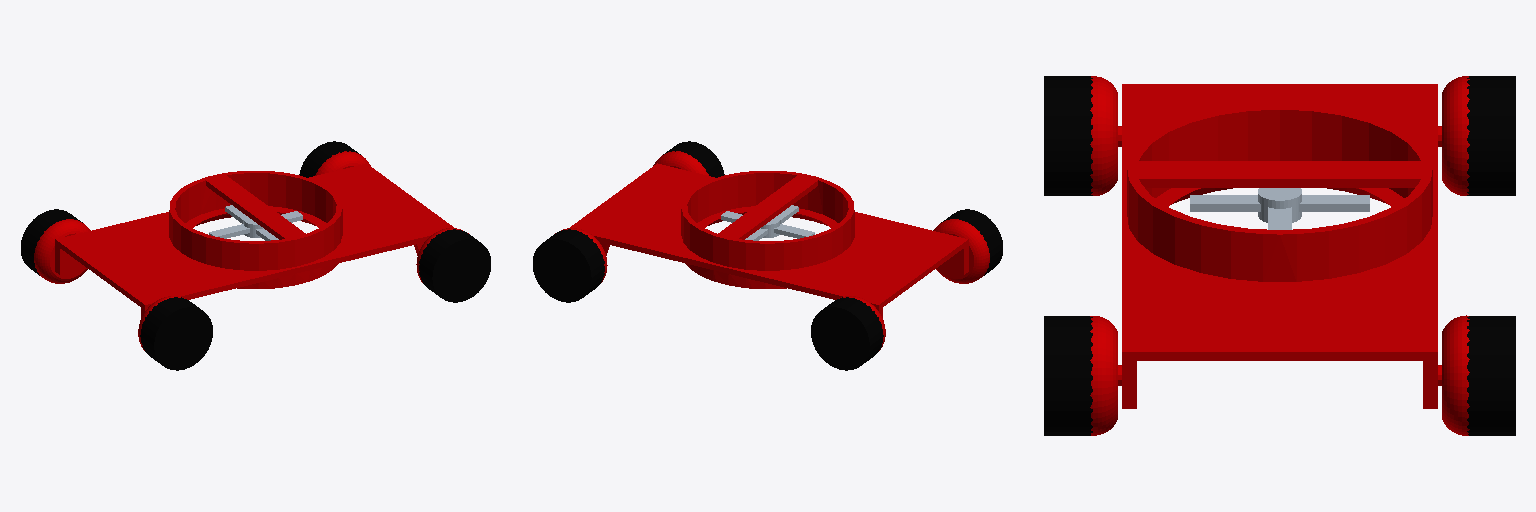
robot.urdf — wallclimbingrobot:
<?xml version="1.0"?>
<robot name="wallclimbingrobot">
  <link name="base_link">
    <inertial>
      <origin xyz="0 0 -0.00139167053492445" rpy="0 0 0" />
      <mass value="2.24200509812134" />
      <inertia ixx="0.0249086640869241" ixy="4.01026389598321E-18" ixz="-5.31210156988019E-18" iyy="0.0777395584720522" iyz="6.75854069904095E-19" izz="0.100518609386422" />
    </inertial>
    <visual>
      <origin xyz="0 0 0" rpy="0 0 0" />
      <geometry>
        <mesh filename="package://wallclimbingrobot/meshes/base_link.STL" />
      </geometry>
      <material name="body_red">
        <color rgba="0.8 0.015 0.025 1" />
      </material>
    </visual>
    <collision>
      <origin xyz="0 0 0.015" rpy="0 0 0" />
      <geometry>
        <box size="0.62 0.30 0.055" />
      </geometry>
    </collision>
  </link>
  <link name="link_BR">
    <inertial>
      <origin xyz="-2.7756E-16 0.023324 1.3878E-16" rpy="0 0 0" />
      <mass value="0.39375" />
      <inertia ixx="0.00035222" ixy="7.5731E-21" ixz="-6.1531E-21" iyy="0.00058248" iyz="1.8933E-21" izz="0.00035222" />
    </inertial>
    <visual>
      <origin xyz="0 0 0" rpy="1.57079632679 0 0" />
      <geometry>
        <cylinder radius="0.057" length="0.046" />
      </geometry>
      <material name="rubber">
        <color rgba="0.045 0.045 0.045 1" />
      </material>
    </visual>
    <collision>
      <origin xyz="0 0 0" rpy="1.57079632679 0 0" />
      <geometry>
        <cylinder radius="0.057" length="0.046" />
      </geometry>
    </collision>
  </link>
  <joint name="joint_BR" type="continuous">
    <origin xyz="-0.26814 -0.2 -0.04" rpy="0 0 0" />
    <parent link="base_link" />
    <child link="link_BR" />
    <axis xyz="0 1 0" />
  </joint>
  <link name="link_BL">
    <inertial>
      <origin xyz="-5.5511E-17 -0.023324 5.5511E-17" rpy="0 0 0" />
      <mass value="0.39375" />
      <inertia ixx="0.00035222" ixy="5.4144E-21" ixz="0" iyy="0.00058248" iyz="-1.2032E-19" izz="0.00035222" />
    </inertial>
    <visual>
      <origin xyz="0 0 0" rpy="1.57079632679 0 0" />
      <geometry>
        <cylinder radius="0.057" length="0.046" />
      </geometry>
      <material name="rubber">
        <color rgba="0.045 0.045 0.045 1" />
      </material>
    </visual>
    <collision>
      <origin xyz="0 0 0" rpy="1.57079632679 0 0" />
      <geometry>
        <cylinder radius="0.057" length="0.046" />
      </geometry>
    </collision>
  </link>
  <joint name="joint_BL" type="continuous">
    <origin xyz="-0.26814 0.2 -0.04" rpy="0 0 0" />
    <parent link="base_link" />
    <child link="link_BL" />
    <axis xyz="0 1 0" />
  </joint>
  <link name="link_FL">
    <inertial>
      <origin xyz="1.3878E-17 -0.023324 0" rpy="0 0 0" />
      <mass value="0.39375" />
      <inertia ixx="0.00035222" ixy="2.6341E-21" ixz="-2.2739E-21" iyy="0.00058248" iyz="-2.1973E-19" izz="0.00035222" />
    </inertial>
    <visual>
      <origin xyz="0 0 0" rpy="1.57079632679 0 0" />
      <geometry>
        <cylinder radius="0.057" length="0.046" />
      </geometry>
      <material name="rubber">
        <color rgba="0.045 0.045 0.045 1" />
      </material>
    </visual>
    <collision>
      <origin xyz="0 0 0" rpy="1.57079632679 0 0" />
      <geometry>
        <cylinder radius="0.057" length="0.046" />
      </geometry>
    </collision>
  </link>
  <joint name="joint_FL" type="continuous">
    <origin xyz="0.26814 0.2 -0.04" rpy="0 0 0" />
    <parent link="base_link" />
    <child link="link_FL" />
    <axis xyz="0 1 0" />
  </joint>
  <link name="link_FR">
    <inertial>
      <origin xyz="1.3878E-17 0.023324 0" rpy="0 0 0" />
      <mass value="0.39375" />
      <inertia ixx="0.00035222" ixy="-9.2853E-22" ixz="-4.4492E-21" iyy="0.00058248" iyz="6.9654E-21" izz="0.00035222" />
    </inertial>
    <visual>
      <origin xyz="0 0 0" rpy="1.57079632679 0 0" />
      <geometry>
        <cylinder radius="0.057" length="0.046" />
      </geometry>
      <material name="rubber">
        <color rgba="0.045 0.045 0.045 1" />
      </material>
    </visual>
    <collision>
      <origin xyz="0 0 0" rpy="1.57079632679 0 0" />
      <geometry>
        <cylinder radius="0.057" length="0.046" />
      </geometry>
    </collision>
  </link>
  <joint name="joint_FR" type="continuous">
    <origin xyz="0.26814 -0.2 -0.04" rpy="0 0 0" />
    <parent link="base_link" />
    <child link="link_FR" />
    <axis xyz="0 1 0" />
  </joint>
  <gazebo>
    <plugin filename="gz-sim-diff-drive-system" name="gz::sim::systems::DiffDrive">
      <left_joint>joint_FL</left_joint>
      <left_joint>joint_BL</left_joint>
      <right_joint>joint_FR</right_joint>
      <right_joint>joint_BR</right_joint>
      <wheel_separation>0.4</wheel_separation>
      <wheel_radius>0.057</wheel_radius>
      <odom_publish_frequency>10</odom_publish_frequency>
      <topic>cmd_vel</topic>
      <odom_topic>odom</odom_topic>
      <tf_topic>/tf</tf_topic>
      <frame_id>odom</frame_id>
      <child_frame_id>base_link</child_frame_id>
    </plugin>
  </gazebo>
  <gazebo>
    <plugin filename="gz-sim-joint-state-publisher-system" name="gz::sim::systems::JointStatePublisher">
      <topic>/joint_states</topic>
    </plugin>
  </gazebo>
  <gazebo reference="base_link">
    <mu1>1.2</mu1>
    <mu2>1.2</mu2>
    <material>Gazebo/Red</material>
  </gazebo>
  <gazebo reference="link_BR">
    <mu1>1.2</mu1>
    <mu2>1.2</mu2>
    <material>Gazebo/Black</material>
  </gazebo>
  <gazebo reference="link_BL">
    <mu1>1.2</mu1>
    <mu2>1.2</mu2>
    <material>Gazebo/Black</material>
  </gazebo>
  <gazebo reference="link_FL">
    <mu1>1.2</mu1>
    <mu2>1.2</mu2>
    <material>Gazebo/Black</material>
  </gazebo>
  <gazebo reference="link_FR">
    <mu1>1.2</mu1>
    <mu2>1.2</mu2>
    <material>Gazebo/Black</material>
  </gazebo>
  <link name="fan_rotor">
    <inertial>
      <mass value="0.06" />
      <inertia ixx="0.0001" iyy="0.0001" izz="0.0002" ixy="0" ixz="0" iyz="0" />
    </inertial>
    <visual>
      <origin xyz="0 0 0" rpy="0 0 0" />
      <geometry>
        <cylinder radius="0.021" length="0.025" />
      </geometry>
      <material name="fan_silver">
        <color rgba="0.7 0.75 0.8 1" />
      </material>
    </visual>
    <visual>
      <origin xyz="0 0 0" rpy="0 0 0" />
      <geometry>
        <box size="0.17 0.022 0.008" />
      </geometry>
      <material name="fan_silver">
        <color rgba="0.7 0.75 0.8 1" />
      </material>
    </visual>
    <visual>
      <origin xyz="0 0 0" rpy="0 0 1.57079632679" />
      <geometry>
        <box size="0.17 0.022 0.008" />
      </geometry>
      <material name="fan_silver">
        <color rgba="0.7 0.75 0.8 1" />
      </material>
    </visual>
  </link>
  <joint name="fan_joint" type="continuous">
    <parent link="base_link" />
    <child link="fan_rotor" />
    <origin xyz="0 0 0.015" rpy="0 0 0" />
    <axis xyz="0 0 1" />
  </joint>
  <gazebo>
    <plugin filename="libfan_adhesion.so" name="FanAdhesion" />
  </gazebo>
</robot>

--- Render facts (derived) ---
The picture shows the robot from 3 angles, left to right: view 1: azimuth 30°, elevation 25°; view 2: azimuth 150°, elevation 25°; view 3: azimuth 270°, elevation 25°; orthographic projection.
Robot: wallclimbingrobot — 6 links, 5 joints (5 continuous); root link base_link; default pose: every joint at zero.
Visible links, largest first — view 1: base_link, link_BR, link_FR, link_BL, fan_rotor, link_FL; view 2: base_link, link_BL, link_FL, link_BR, fan_rotor, link_FR; view 3: base_link, link_FR, link_FL, link_BR, link_BL, fan_rotor.
Boxes of the visible links, x1,y1,x2,y2 form: base_link: (34, 151, 468, 350); link_BR: (140, 297, 212, 370); link_FR: (419, 229, 490, 302); link_BL: (21, 209, 82, 275); fan_rotor: (209, 205, 302, 240); link_FL: (299, 141, 360, 177); base_link: (555, 151, 989, 350); link_BL: (811, 297, 883, 370); link_FL: (533, 229, 604, 302); link_BR: (941, 209, 1002, 275); fan_rotor: (721, 205, 814, 240); link_FR: (663, 141, 724, 177); base_link: (1090, 76, 1469, 435); link_FR: (1044, 316, 1092, 435); link_FL: (1467, 316, 1515, 435); link_BR: (1044, 76, 1092, 195); link_BL: (1467, 76, 1515, 195); fan_rotor: (1190, 188, 1369, 229).
Size in the robot's own frame: 0.6503 by 0.446 by 0.147 metres.
Meshes: 1 distinct files referenced, 1 mesh visuals loaded (1 ASCII STL).
